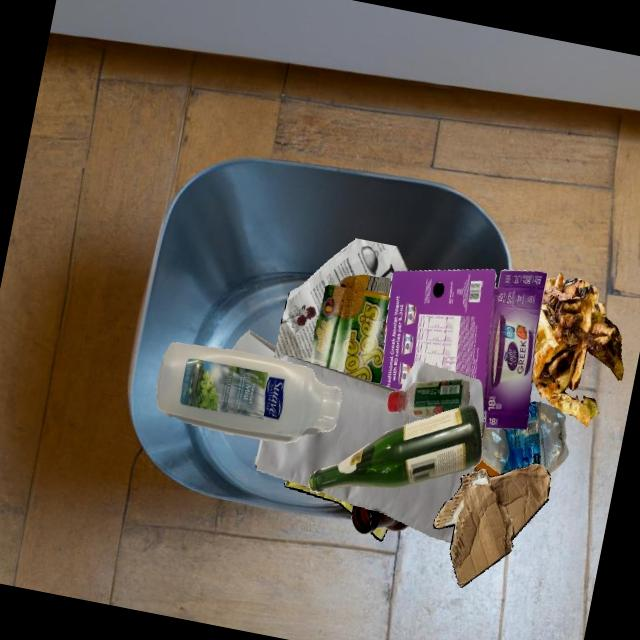biowaste: (532, 273, 624, 427)
cardboard: (381, 269, 547, 429), (433, 464, 550, 587), (309, 275, 392, 385), (484, 414, 485, 423), (283, 316, 283, 316)
glass: (309, 405, 482, 493), (351, 505, 409, 534)
paper: (255, 354, 484, 488), (274, 238, 408, 362), (321, 467, 476, 543), (231, 330, 276, 358)
plastic: (156, 342, 342, 443), (481, 402, 569, 474), (387, 379, 469, 418), (475, 459, 501, 476)
trash: (284, 480, 354, 514), (370, 528, 387, 542)
